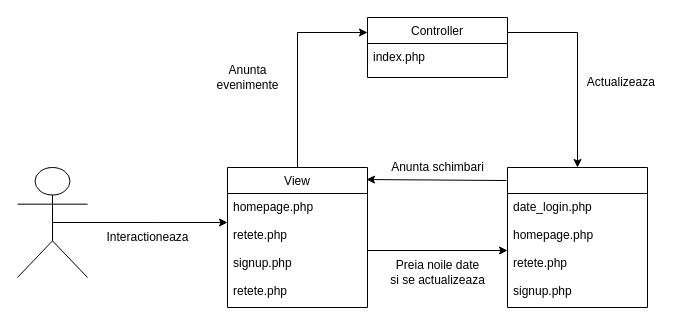
Image size: 685x328. Some labels were removed from this diagram. The box of each missing label's shape, as (x1, y1, x2, y2) in pixels:
Actor: (16, 166, 88, 278)
Model: (506, 166, 648, 308)
